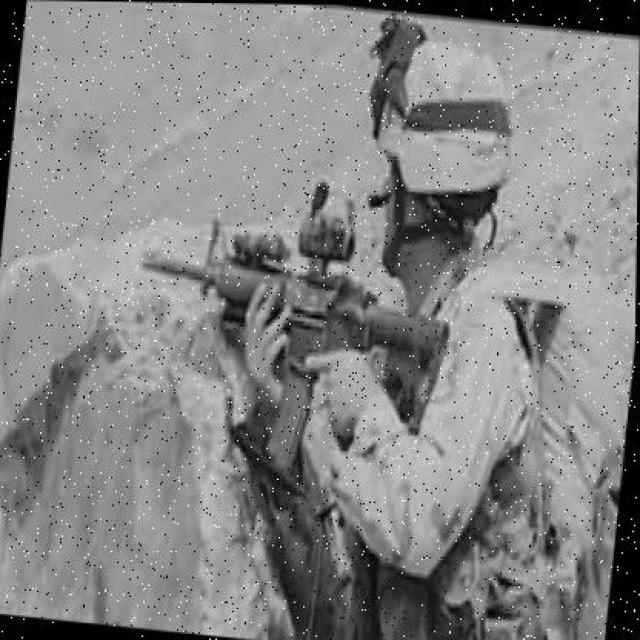weapon: (141, 178, 448, 476)
